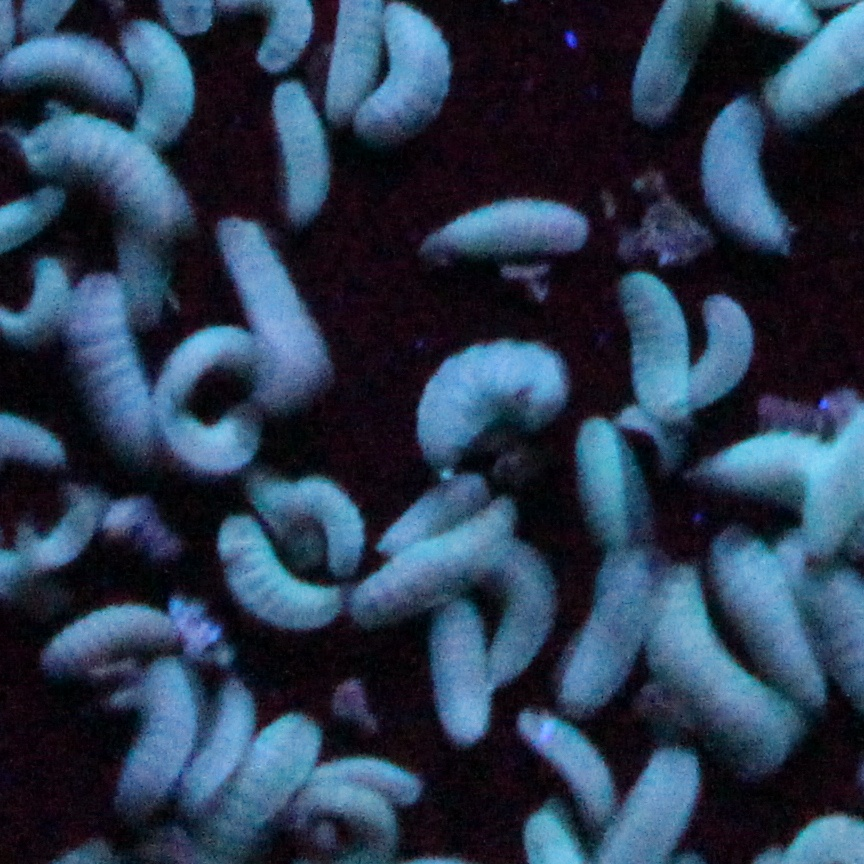larve: (641, 567, 806, 759), (14, 98, 201, 234), (47, 263, 178, 451), (346, 491, 525, 622), (411, 326, 565, 473), (206, 212, 327, 393), (552, 542, 669, 716), (696, 81, 798, 262), (204, 517, 349, 630), (426, 178, 601, 271), (118, 653, 207, 822), (500, 703, 626, 821), (614, 268, 706, 429), (139, 315, 258, 426), (662, 288, 763, 417), (363, 3, 445, 157), (37, 589, 189, 672), (426, 591, 499, 751), (270, 80, 339, 230), (569, 416, 642, 552), (165, 400, 278, 479)
